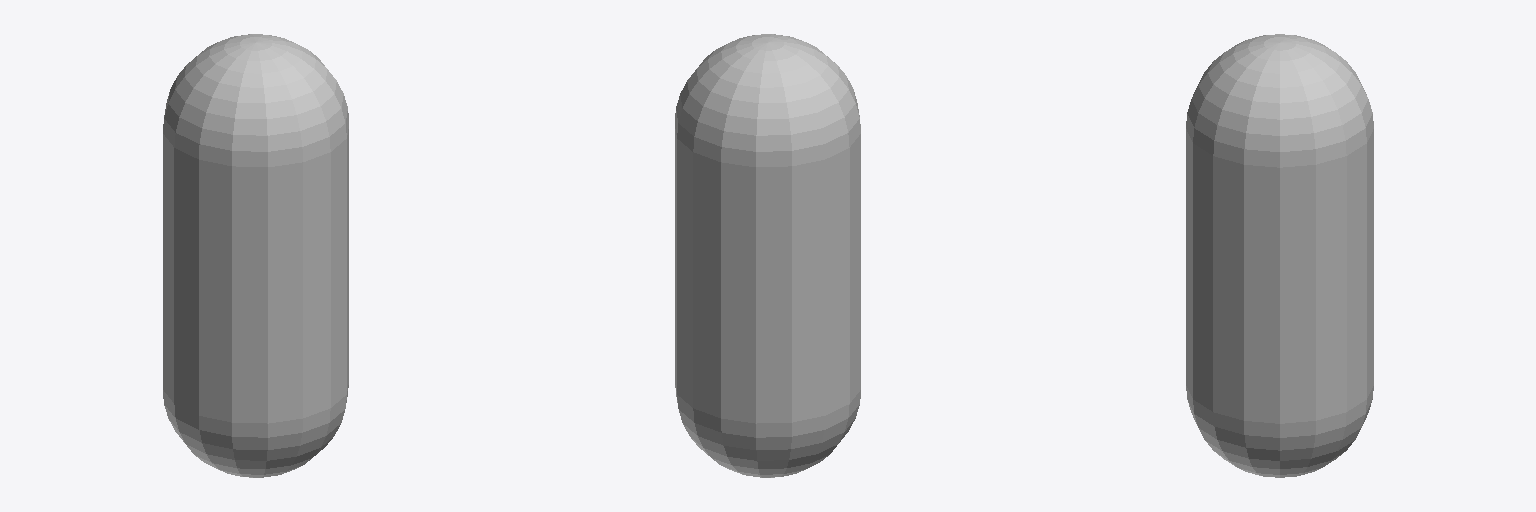
The model's file is Water.obj.
3 renders of one model, left to right at view 1: azimuth 30°, elevation 25°; view 2: azimuth 150°, elevation 25°; view 3: azimuth 270°, elevation 25°, orthographic.
Visible parts, largest first — view 1: Capsule.001; view 2: Capsule.001; view 3: Capsule.001.
Part boxes in pixels (x1,y1,x2,y2): Capsule.001: (163, 34, 348, 477); Capsule.001: (675, 34, 860, 477); Capsule.001: (1186, 34, 1373, 477).
Size of the model in its own units: 1.77 by 4.43 by 1.77.